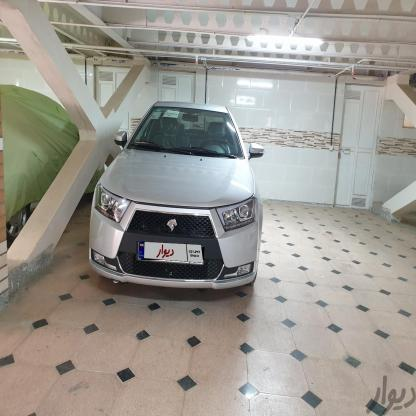Car: (89, 93, 266, 300)
